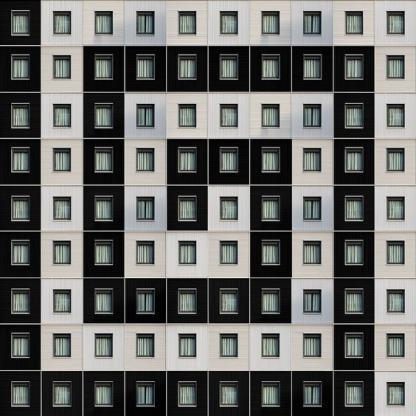Building Outline: (0, 0, 416, 416)
Facade: (0, 0, 416, 416)
Floor: (0, 0, 416, 43), (0, 281, 416, 322), (0, 188, 416, 229), (0, 95, 416, 136), (0, 328, 416, 368), (0, 235, 416, 275), (0, 142, 416, 182), (0, 49, 416, 89), (0, 374, 416, 412)
Floor Slab: (0, 43, 416, 49), (0, 89, 416, 95), (0, 136, 416, 142), (0, 182, 416, 188), (0, 229, 416, 235), (0, 275, 416, 281), (0, 322, 416, 328), (0, 368, 416, 374), (0, 411, 416, 416)
Window: (177, 381, 196, 407), (136, 381, 155, 407), (53, 10, 72, 36), (11, 10, 30, 36), (136, 10, 155, 36), (95, 10, 114, 36), (11, 381, 30, 407), (178, 10, 197, 36), (94, 381, 113, 407), (53, 381, 72, 407), (386, 10, 405, 36), (345, 10, 364, 36), (219, 10, 238, 36), (303, 10, 322, 36), (261, 10, 280, 36), (386, 381, 405, 407), (345, 381, 364, 407), (219, 381, 238, 407), (303, 381, 322, 407), (261, 381, 280, 407), (177, 54, 196, 80), (136, 54, 155, 80), (11, 54, 30, 80), (94, 54, 113, 80), (53, 54, 72, 80), (386, 54, 405, 80), (345, 54, 364, 80), (219, 54, 238, 80), (303, 54, 322, 80), (261, 54, 280, 80), (177, 103, 196, 129), (136, 103, 155, 129), (11, 103, 30, 129), (94, 103, 113, 129), (53, 103, 72, 129), (386, 103, 405, 129), (345, 103, 364, 129), (219, 103, 238, 129), (303, 103, 322, 129), (261, 103, 280, 129), (177, 147, 196, 173), (136, 147, 155, 173), (11, 147, 30, 173), (94, 147, 113, 173), (53, 147, 72, 173), (386, 147, 405, 173), (345, 147, 364, 173), (219, 147, 238, 173), (303, 147, 322, 173), (261, 147, 280, 173), (177, 196, 196, 222), (136, 196, 155, 222), (11, 196, 30, 222), (94, 196, 113, 222), (53, 196, 72, 222), (386, 196, 405, 222), (345, 196, 364, 222), (219, 196, 238, 222), (303, 196, 322, 222), (261, 196, 280, 222), (178, 240, 197, 266), (136, 240, 155, 266), (11, 240, 30, 266), (94, 240, 113, 266), (53, 240, 72, 266), (386, 240, 405, 266), (345, 240, 364, 266), (219, 240, 238, 266), (303, 240, 322, 266), (261, 240, 280, 266), (177, 289, 196, 315), (136, 289, 155, 315), (11, 289, 30, 315), (94, 289, 113, 315), (53, 289, 72, 315), (386, 289, 405, 315), (345, 289, 364, 315), (219, 289, 238, 315), (303, 289, 322, 315), (261, 289, 280, 315), (178, 333, 197, 359), (136, 333, 155, 359), (11, 333, 30, 359), (94, 333, 113, 359), (53, 333, 72, 359), (386, 333, 405, 359), (345, 333, 364, 359), (219, 333, 238, 359), (303, 333, 322, 359), (261, 333, 280, 359)
